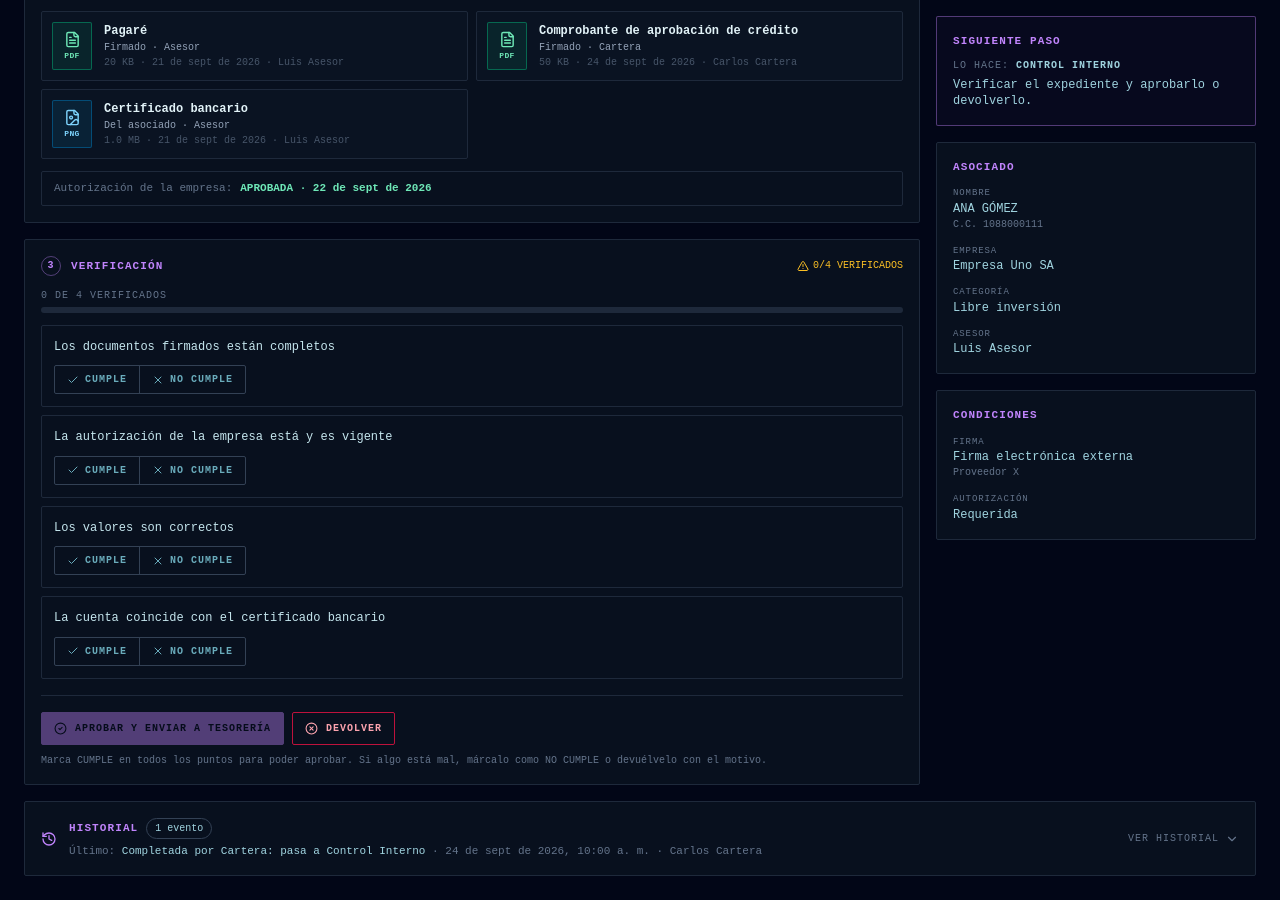
Scenario: Control Interno — devolver › pide a quién se devuelve (Cartera por defecto) y un motivo obligatorio
(page scrolled)
Step 1. Click the button "DEVOLVER" → (344,728), box [292,712,395,745]
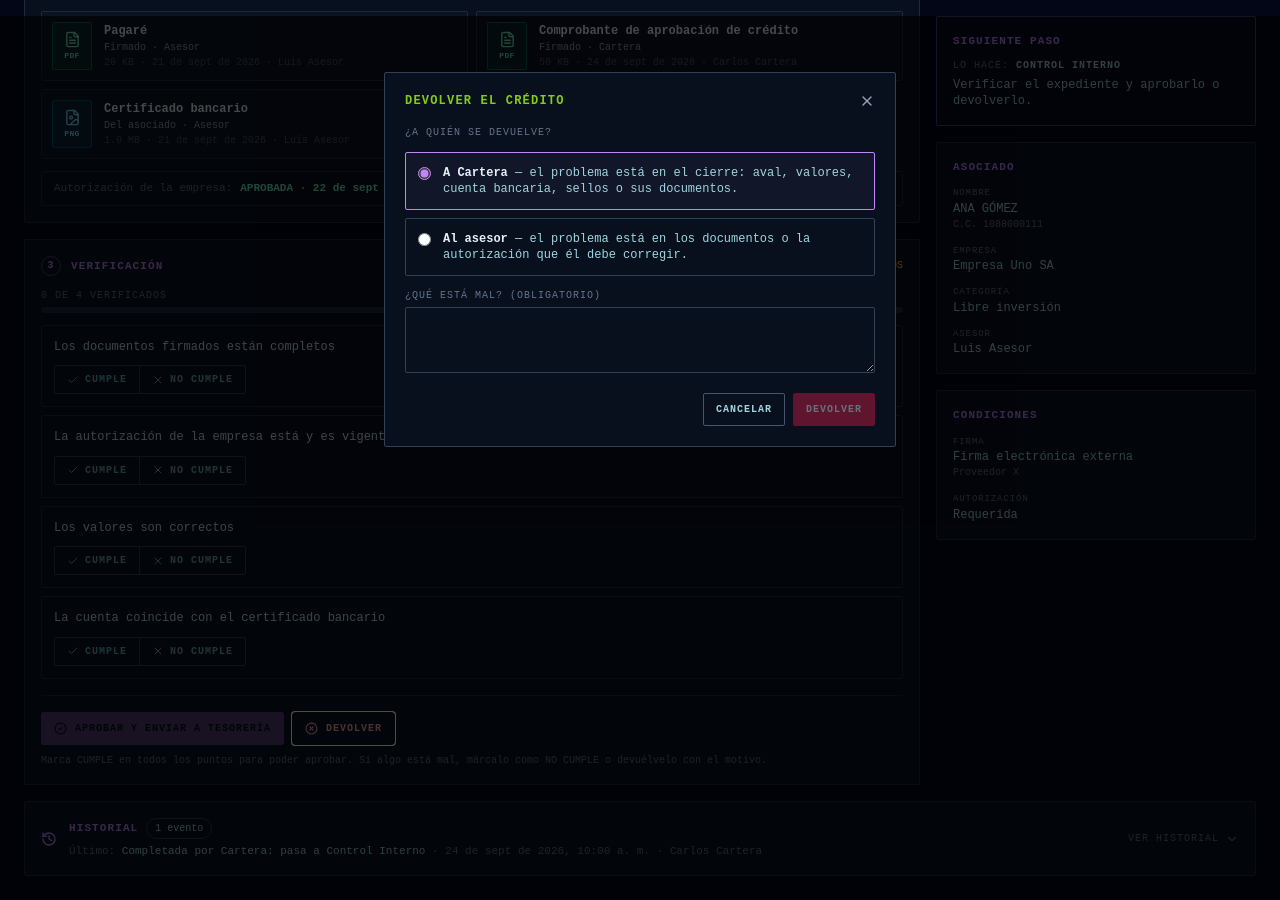
Expected: the radio button labelled "A Cartera" is checked, [418,167,431,180]
Expected: the radio button labelled "Al asesor" is not checked, [418,233,431,246]
Expected: the button "DEVOLVER" is disabled, [793,393,875,426]
Step 2. Type "x" into the text box labelled "¿QUÉ ESTÁ MAL? (OBLIGATORIO)" → (640,340), box [405,307,875,373]
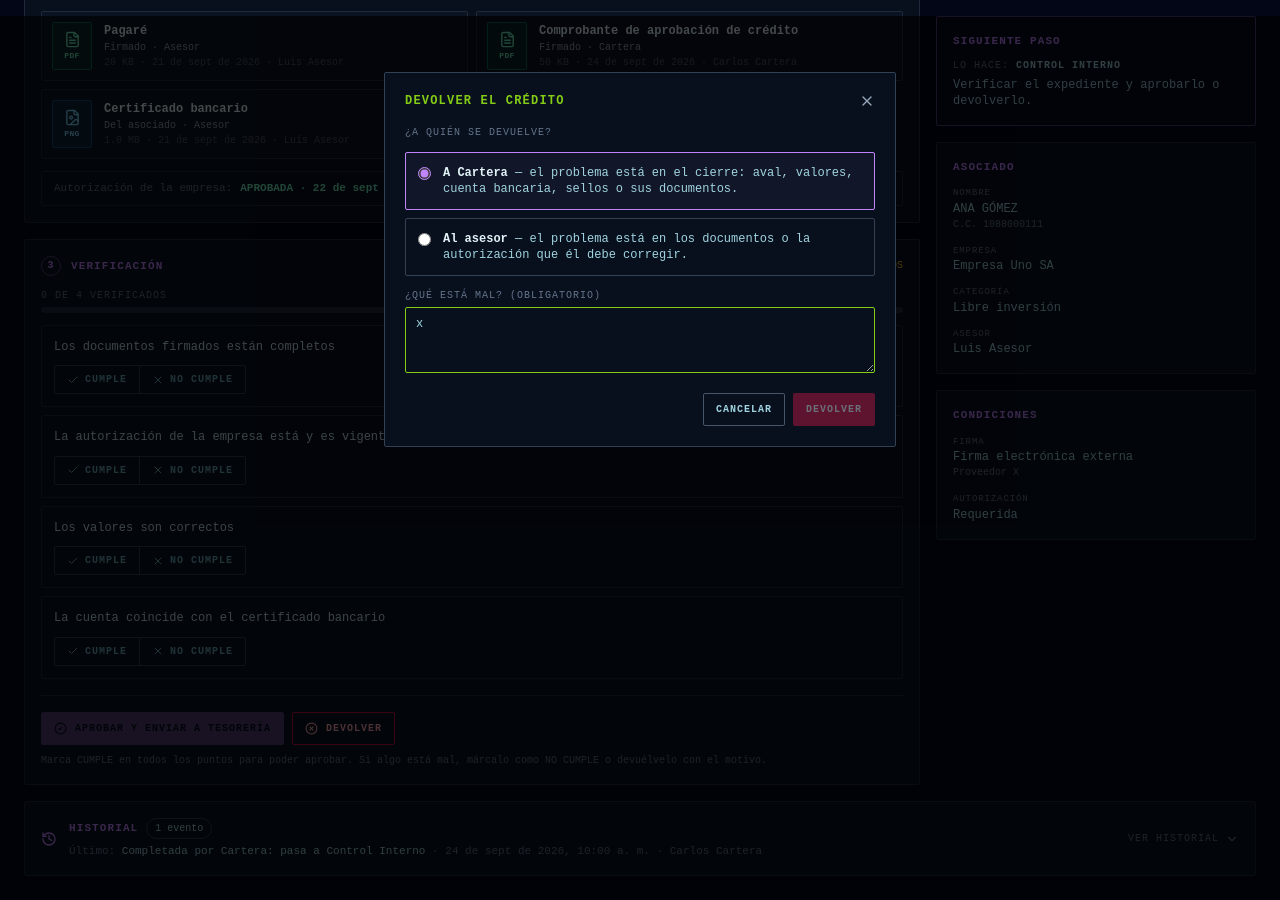
Expected: the button "DEVOLVER" is disabled, [793,393,875,426]
Step 3. Type "yz" into the text box labelled "¿QUÉ ESTÁ MAL? (OBLIGATORIO)" → (640,340), box [405,307,875,373]
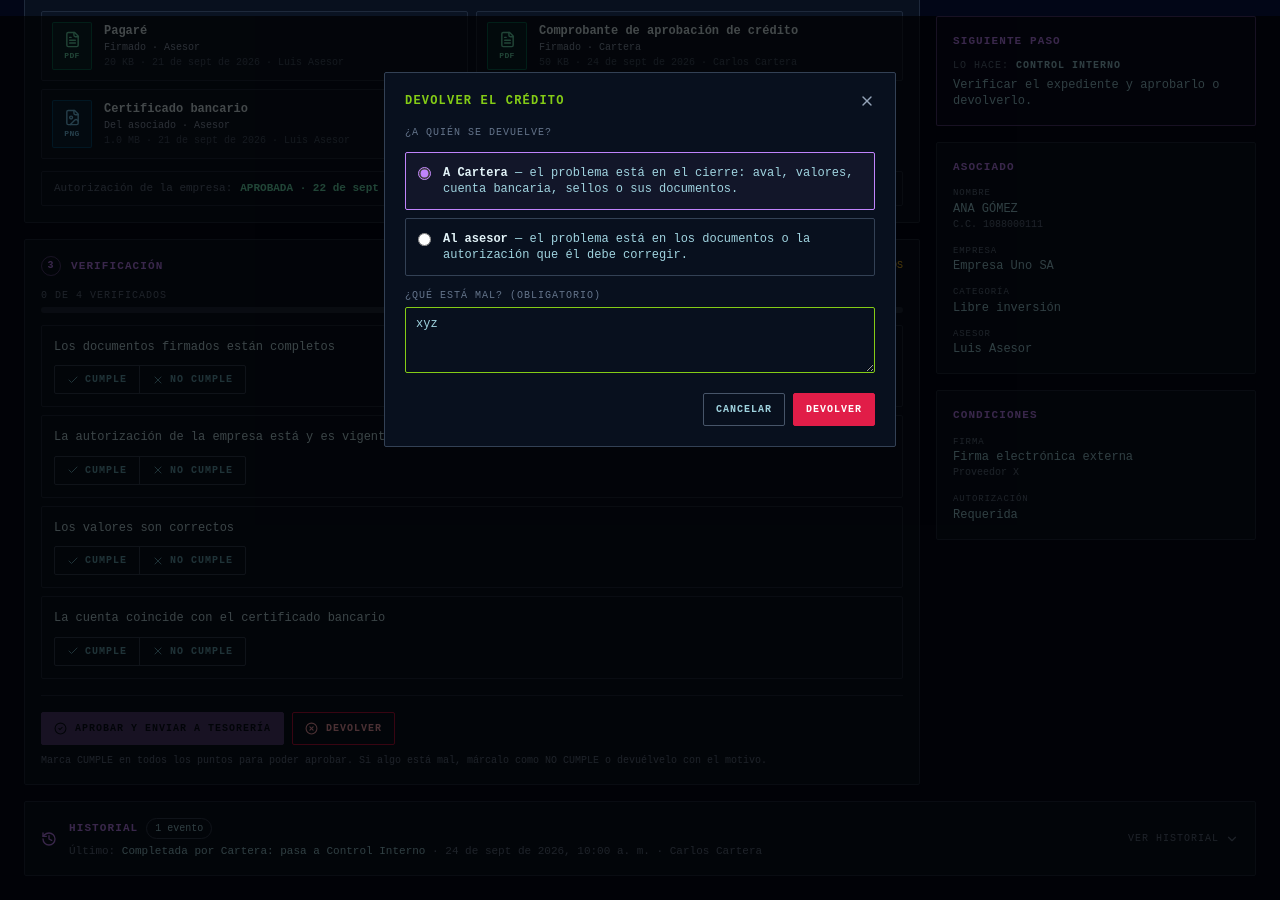
Expected: the button "DEVOLVER" is enabled, [793,393,875,426]
